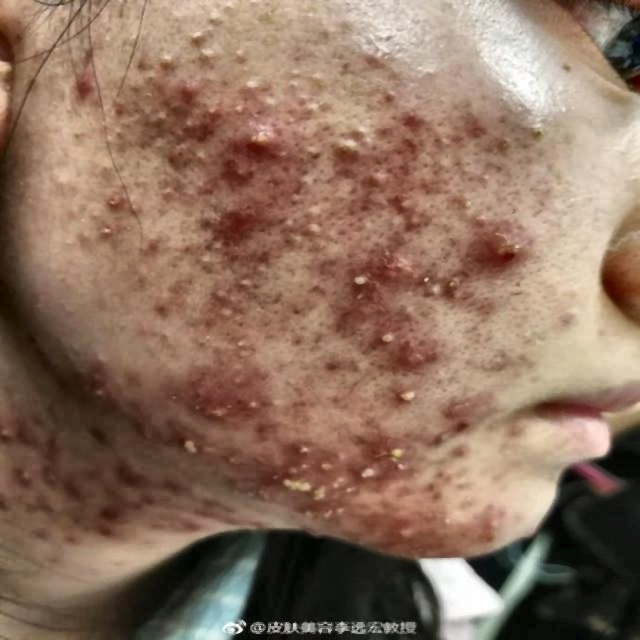nodule: (163, 411, 216, 465), (473, 218, 517, 276), (375, 192, 429, 238), (365, 144, 426, 181), (61, 66, 116, 106), (307, 472, 356, 516), (475, 506, 505, 557), (424, 260, 460, 301), (274, 468, 309, 507), (443, 371, 477, 411), (195, 388, 231, 425), (167, 80, 205, 114), (207, 234, 250, 264), (392, 520, 432, 552), (288, 88, 329, 119), (390, 102, 426, 137), (242, 121, 276, 158), (176, 107, 222, 134), (445, 189, 489, 217), (374, 436, 404, 476), (329, 305, 369, 335), (215, 200, 252, 232), (293, 137, 328, 170), (286, 64, 324, 92), (173, 144, 205, 177), (458, 112, 493, 142), (141, 296, 181, 322), (87, 381, 127, 406), (378, 246, 411, 276), (281, 175, 320, 200), (220, 158, 256, 185), (282, 434, 320, 459), (134, 232, 167, 260), (102, 200, 151, 218), (315, 352, 350, 377), (298, 206, 329, 234), (146, 50, 182, 72), (228, 334, 256, 362), (345, 263, 375, 289), (206, 276, 232, 306), (331, 140, 364, 162), (206, 305, 242, 325), (402, 342, 428, 369), (237, 78, 266, 102), (220, 449, 247, 474), (356, 458, 382, 483), (236, 396, 264, 419), (87, 348, 115, 371), (373, 328, 398, 352), (374, 86, 404, 106), (230, 272, 257, 294), (222, 371, 251, 391), (195, 48, 222, 68), (382, 388, 404, 411), (90, 225, 118, 242), (181, 28, 207, 46), (348, 124, 374, 141), (369, 482, 382, 495)
